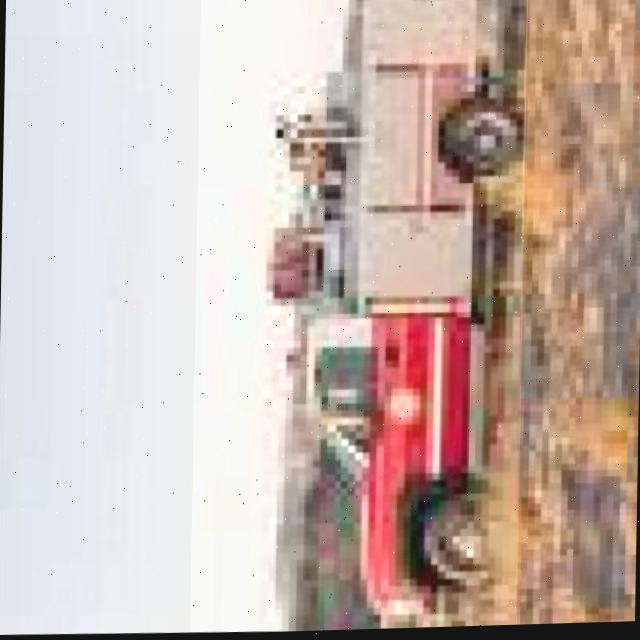Fire Truck: (190, 0, 529, 636)
